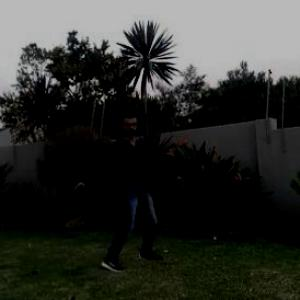land: (56, 84, 185, 296)
